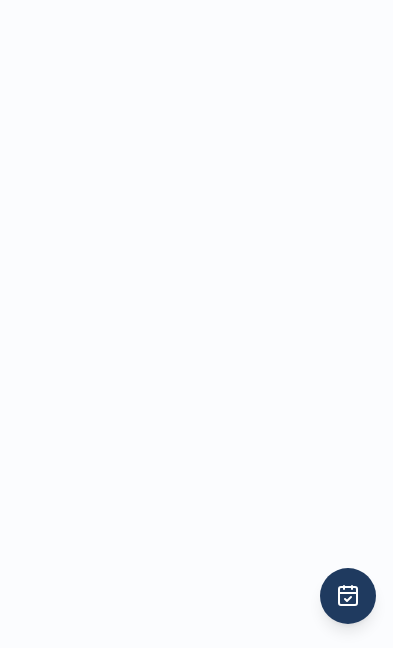
Test case: Floating assistant widget › answers with the AI label, an event card, and the token hint
Click the button named "Open EventHub assistant": (348, 596) top-left (320, 568), bottom-right (376, 624)
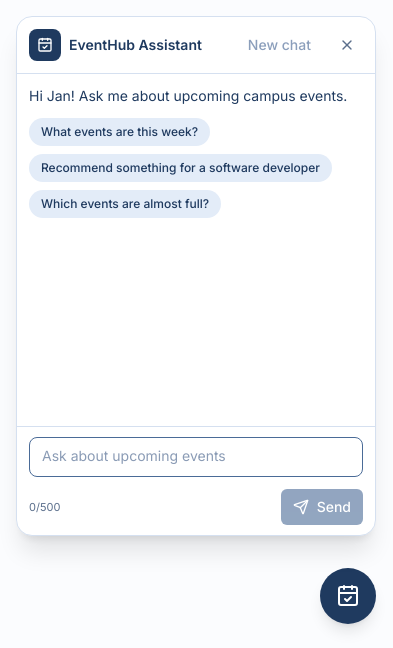
Click the button "What events are this week?": (120, 132) top-left (29, 118), bottom-right (210, 146)
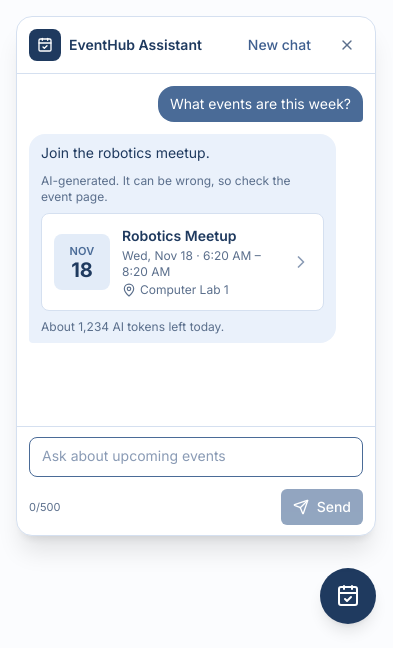
Now the text "Join the robotics meetup." is shown, box top-left (41, 144), bottom-right (210, 161)
Now the text "AI-generated. It can be wrong, so check the event page." is shown, box top-left (41, 173), bottom-right (324, 205)
Now the heading "Robotics Meetup" is shown, box top-left (122, 227), bottom-right (236, 244)
